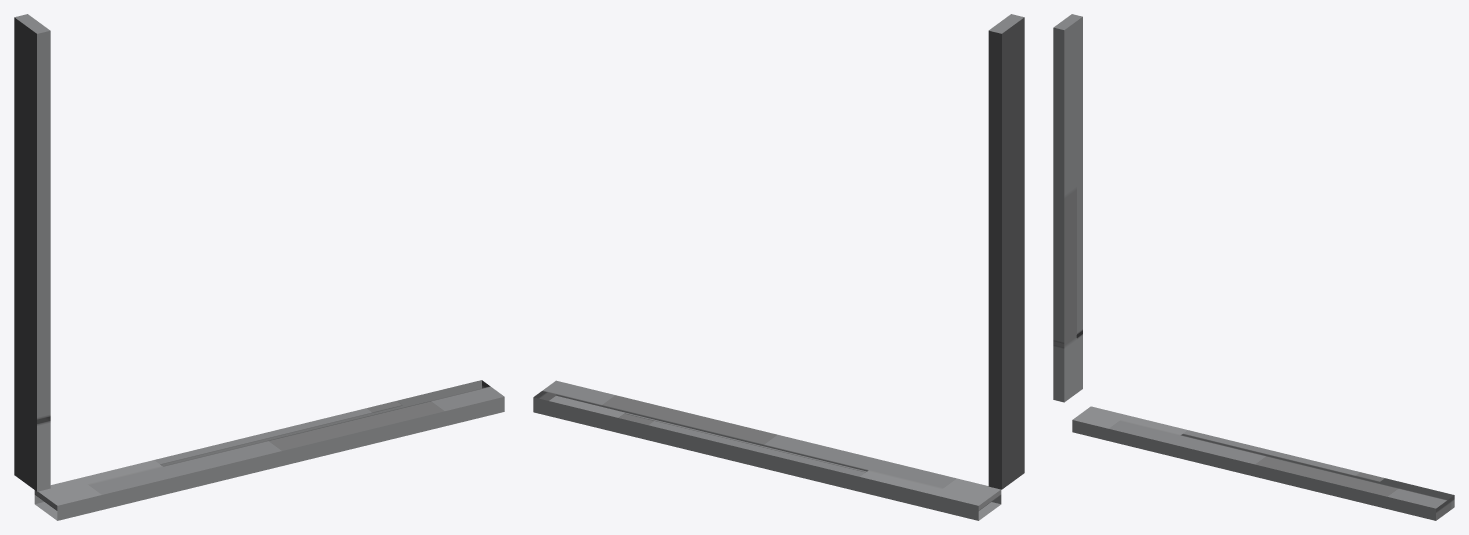
The picture shows the model from 3 angles, left to right: view 1: azimuth 30°, elevation 25°; view 2: azimuth 150°, elevation 25°; view 3: azimuth 330°, elevation 25°; orthographic projection. The views are drawn at different scales.
Size of the model in its own units: 0.961 by 0.9661 by 0.0862.
